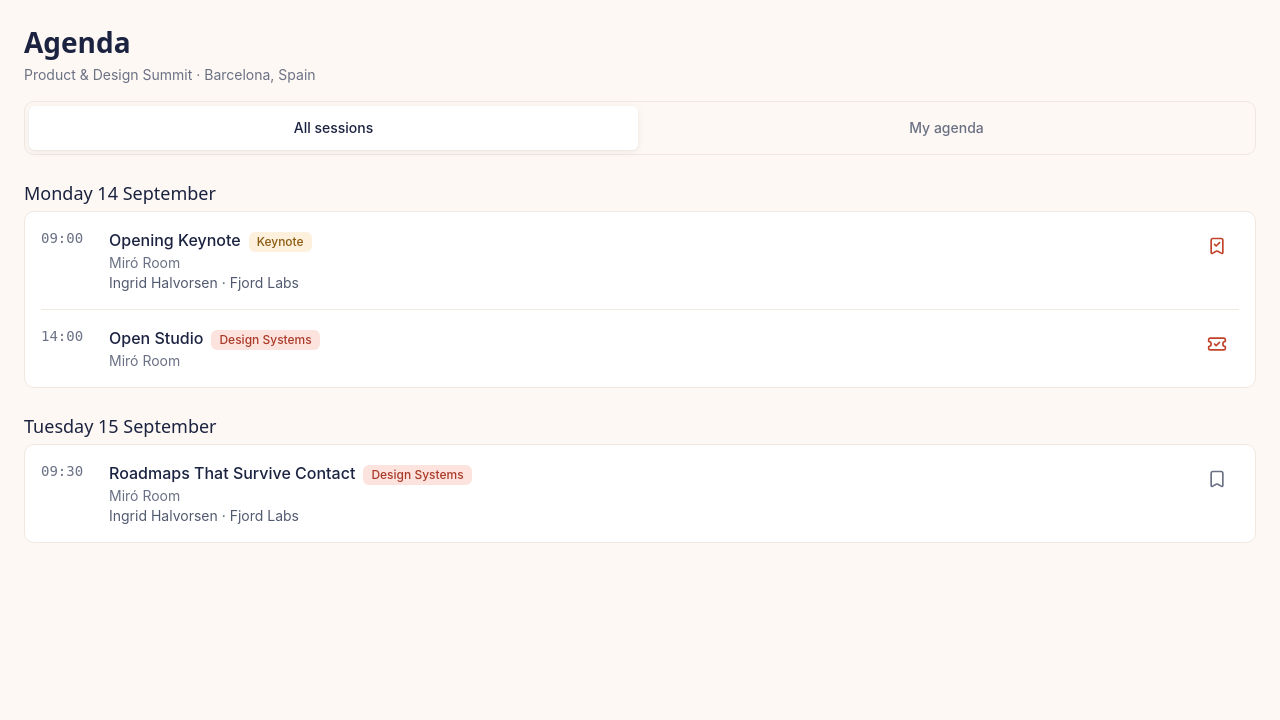
Test case: the Agenda filter › filters to the UNION of both commitments — a held place appears beside a save (FR-1066)
Expected: the link "Opening Keynote" is shown, [109,230,241,250]
Click the radio button labelled "My agenda": (946, 128) [909,119,984,136]
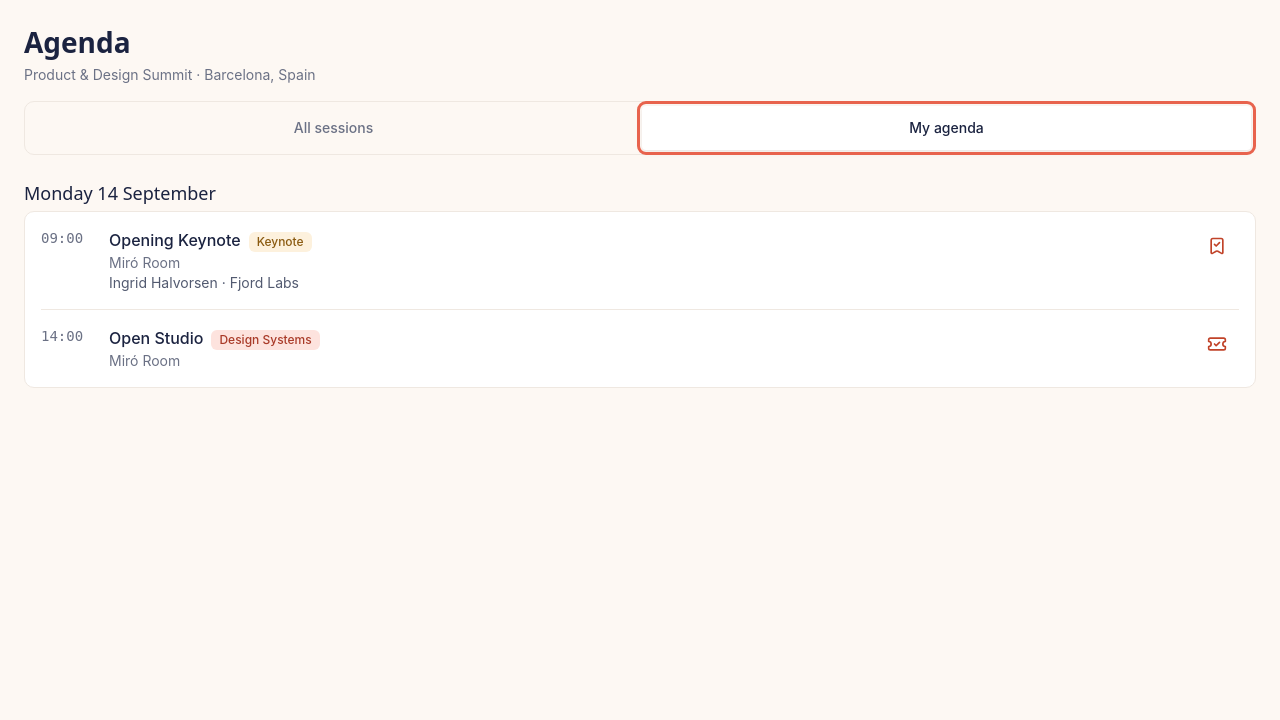
Expected: the headings read "Opening Keynote", "Open Studio", in this order, [109,228,241,253]; [109,326,203,351]
Expected: the link "Roadmaps That Survive Contact" is gone
